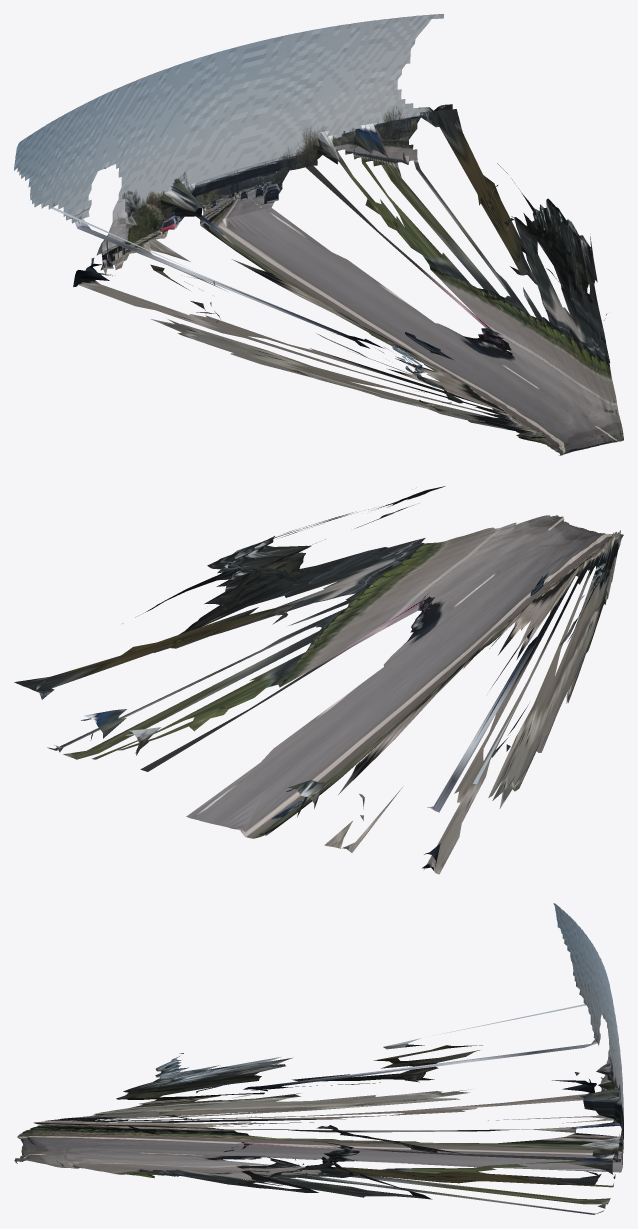
3 views of the same model, one above another, from view 1: azimuth 30°, elevation 25°; view 2: azimuth 150°, elevation 25°; view 3: azimuth 270°, elevation 25° (orthographic). The views are drawn at different scales.
Parts seen in each view (by area): view 1: defaultobject; view 2: defaultobject; view 3: defaultobject.
Boxes of the visible parts, left/top/right/bottom form: defaultobject: left=14, top=14, right=623, bottom=455; defaultobject: left=14, top=486, right=623, bottom=874; defaultobject: left=14, top=903, right=623, bottom=1214.
Size of the model in its own units: 34.68 by 13.5 by 44.75.
1 material, 1 textured.
